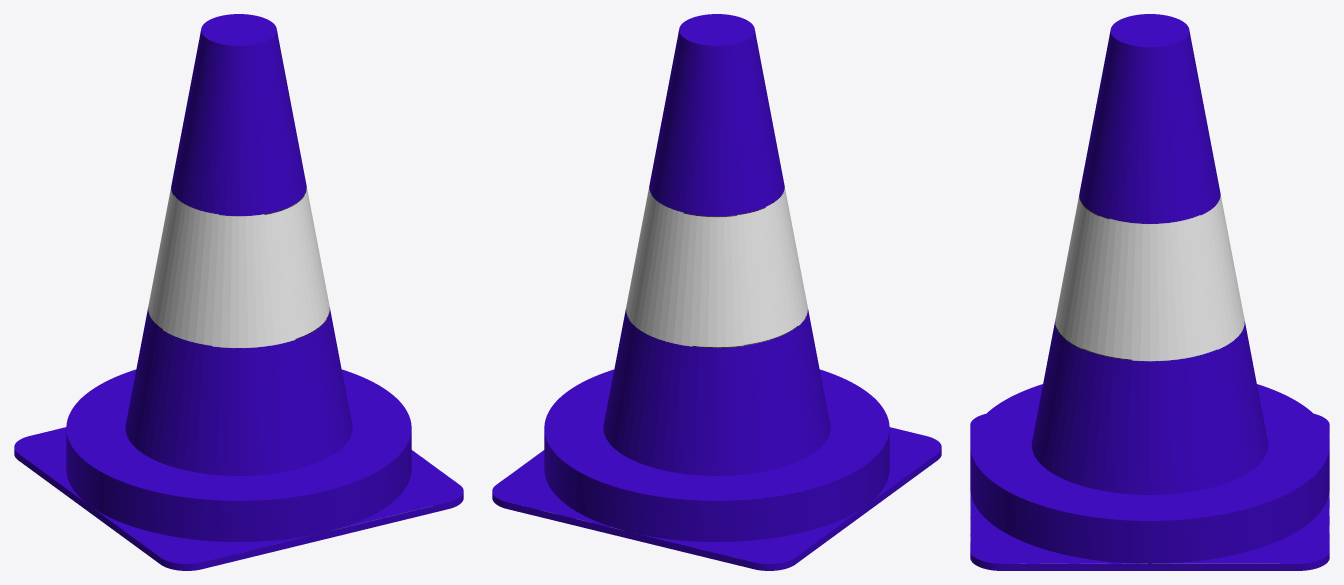
File: bCone.glb
3 views of the same model, side by side, from view 1: azimuth 30°, elevation 25°; view 2: azimuth 150°, elevation 25°; view 3: azimuth 270°, elevation 25° (orthographic). The views are drawn at different scales.
Parts seen in each view (by area): view 1: Cone; view 2: Cone; view 3: Cone.
Part boxes in pixels (<box>): Cone: <box>14,14,463,570</box>; Cone: <box>492,14,941,570</box>; Cone: <box>970,14,1329,570</box>.
Size of the model in its own units: 0.228 by 0.325 by 0.228.
1 material, 1 textured.
